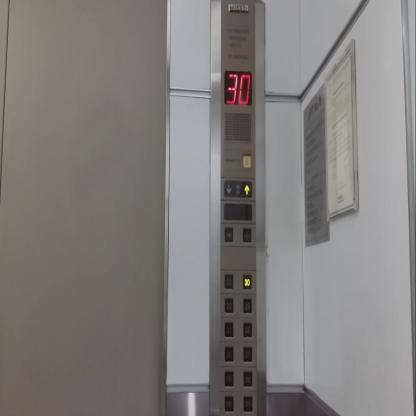18: (223, 394, 234, 413)
19: (224, 370, 234, 388)
20: (223, 344, 234, 362)
21: (223, 320, 234, 338)
22: (223, 296, 234, 314)
23: (223, 272, 234, 290)
25: (242, 394, 253, 413)
26: (242, 370, 253, 388)
27: (242, 344, 253, 362)
28: (242, 320, 253, 338)
29: (242, 296, 253, 314)
30: (241, 272, 252, 290)
alarm: (241, 152, 252, 170)
close: (241, 226, 252, 244)
led: (224, 67, 253, 108), (223, 202, 253, 222)
open: (223, 226, 233, 244)
unknown: (223, 178, 252, 198)
